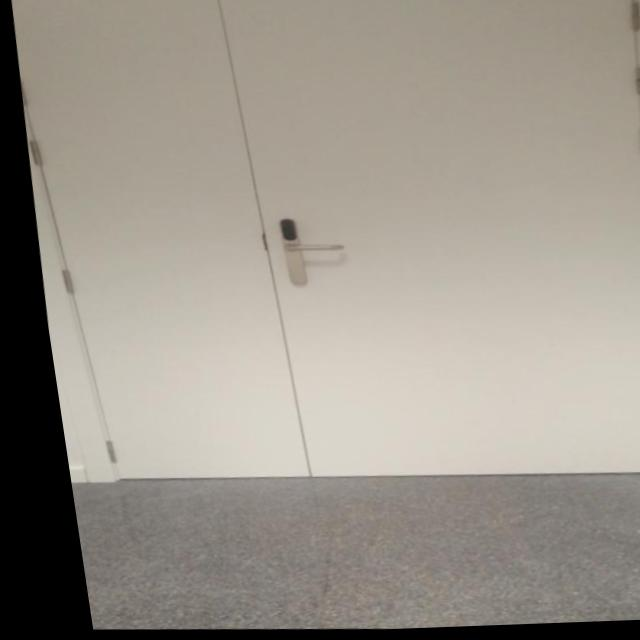door_handle: (271, 242, 338, 258)
